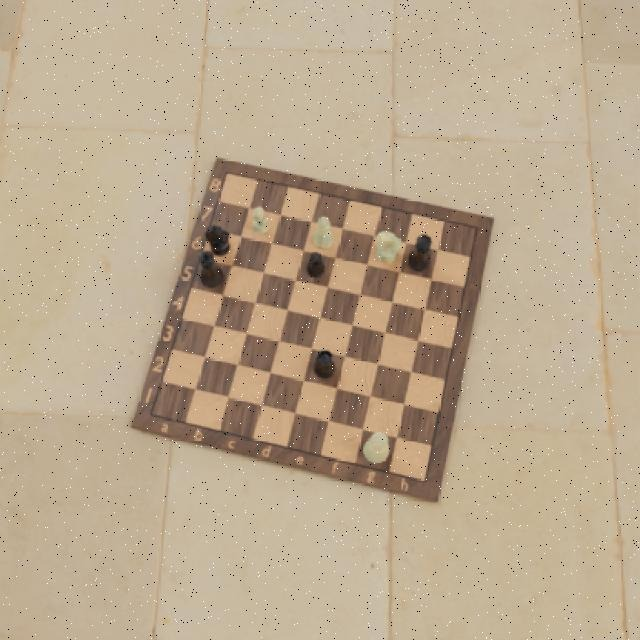black-king: (197, 249, 223, 289)
black-knight: (203, 223, 233, 257)
black-pawn: (305, 251, 326, 281)
black-queen: (407, 229, 433, 275)
black-rook: (312, 349, 336, 382)
white-bishop: (311, 213, 333, 252)
white-king: (364, 431, 392, 466)
white-knight: (373, 231, 401, 265)
white-pawn: (250, 203, 270, 235)
